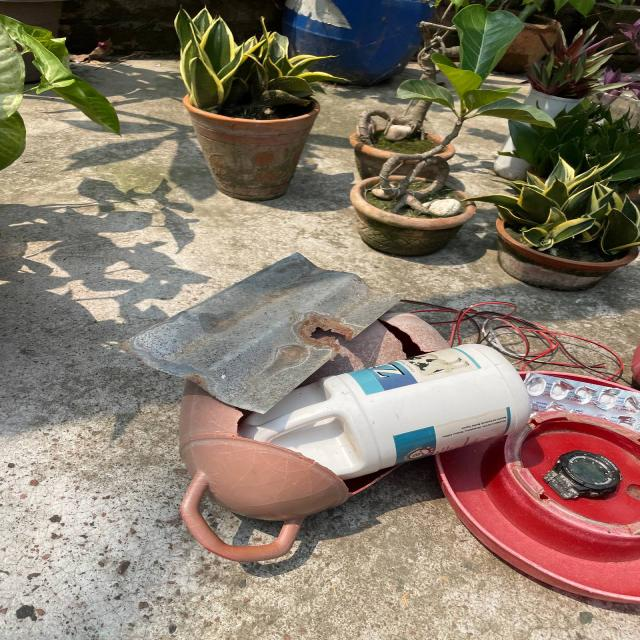Cable: (436, 274, 640, 376)
E-waste: (527, 436, 640, 515)
Medical Waste: (531, 365, 640, 425)
Metal: (138, 248, 398, 392)
Plastics: (70, 378, 523, 584)
